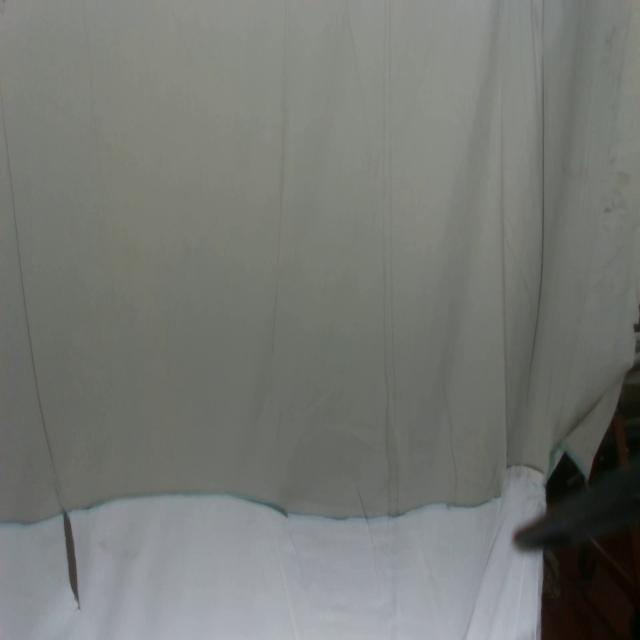crease: (0, 95, 58, 474), (524, 0, 547, 411), (381, 0, 395, 516), (271, 16, 291, 361)
hole: (64, 506, 82, 612)
